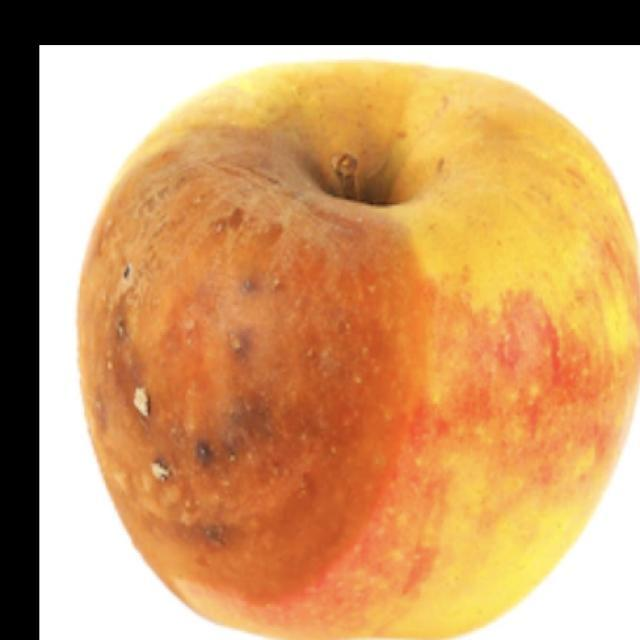Rotten: (78, 61, 640, 639)
